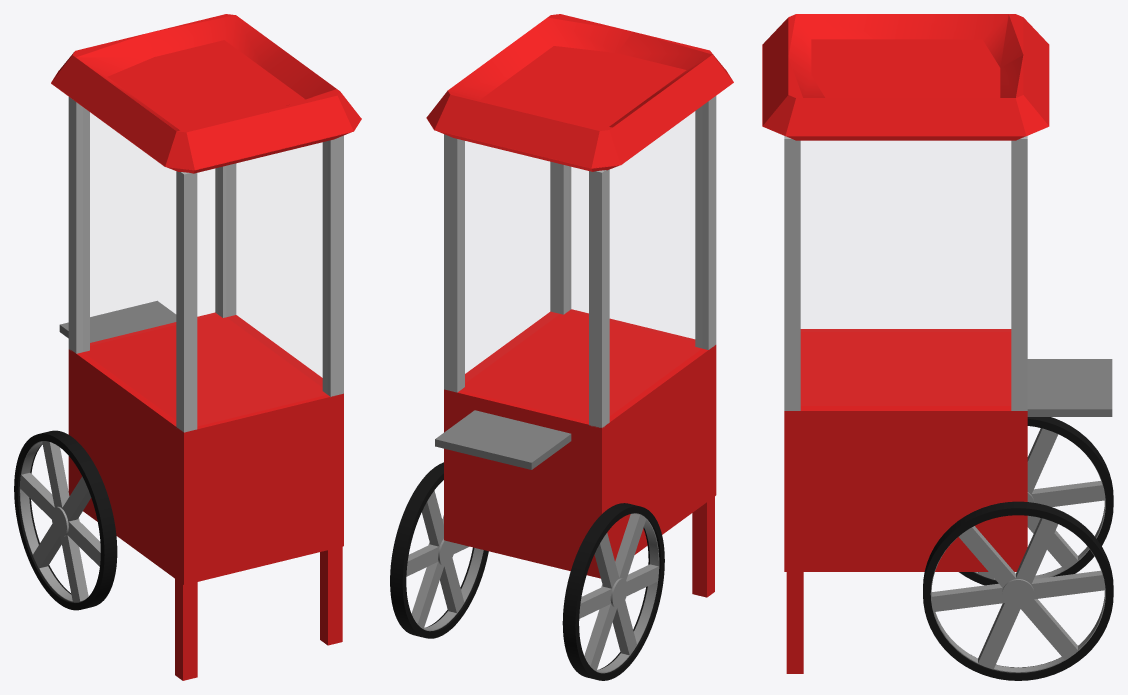
3 views of the same model, side by side, from view 1: azimuth 30°, elevation 25°; view 2: azimuth 150°, elevation 25°; view 3: azimuth 270°, elevation 25° (orthographic). The views are drawn at different scales.
Visible parts, largest first — view 1: popcorn_cart; view 2: popcorn_cart; view 3: popcorn_cart.
Boxes of the visible parts, x1,y1,x2,y2 form: popcorn_cart: [14, 14, 361, 680]; popcorn_cart: [390, 14, 733, 680]; popcorn_cart: [762, 14, 1113, 680].
Bounding box in the file's own units: 0.676 × 1.79 × 0.991.
